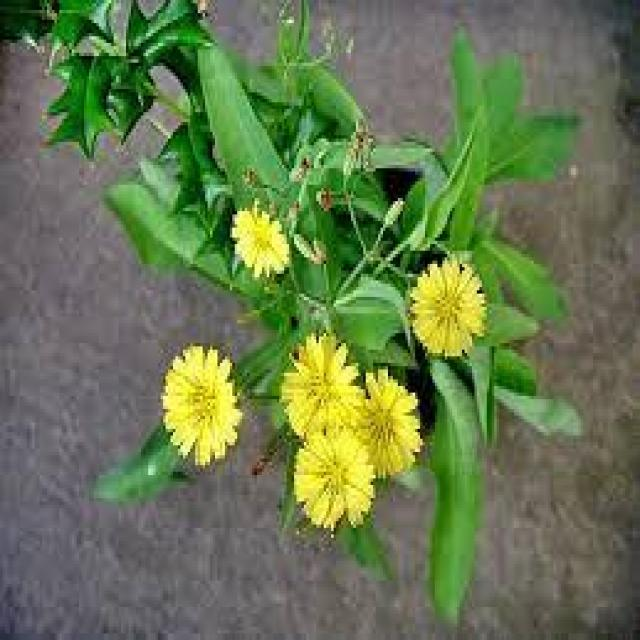organic waste: (152, 340, 246, 485), (283, 323, 367, 442), (343, 366, 425, 485), (288, 432, 379, 531), (411, 249, 493, 355), (231, 198, 303, 280)
